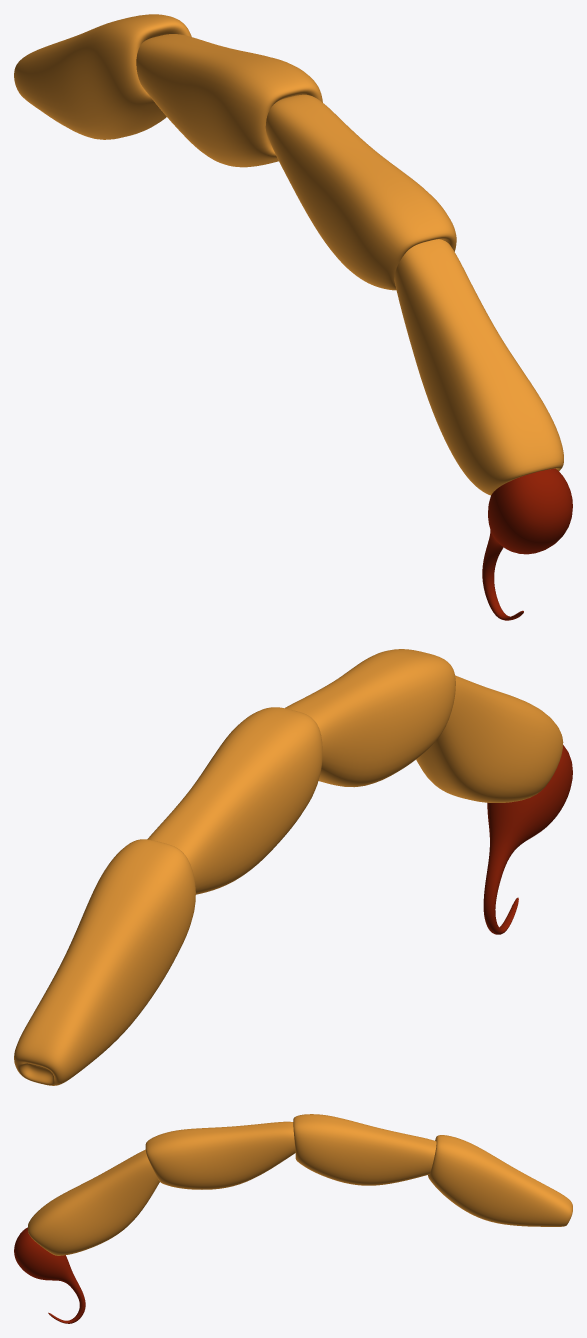
The model's file is Tail Scorpion.fbx.
3 renders of one model, top to bottom at view 1: azimuth 30°, elevation 25°; view 2: azimuth 150°, elevation 25°; view 3: azimuth 270°, elevation 25°, orthographic. The views are drawn at different scales.
Visible parts, largest first — view 1: Resized Tail Section.013, Resized Tail Section.012, Resized Tail Section.014, Resized Tail Section.015, Stinger1.003; view 2: Resized Tail Section.015, Resized Tail Section.014, Resized Tail Section.012, Resized Tail Section.013, Stinger1.003; view 3: Resized Tail Section.012, Resized Tail Section.015, Resized Tail Section.014, Resized Tail Section.013, Stinger1.003.
Part boxes in pixels (bbox=[...]): Resized Tail Section.013: bbox=[394, 239, 563, 495]; Resized Tail Section.012: bbox=[265, 94, 456, 290]; Resized Tail Section.014: bbox=[136, 34, 322, 167]; Resized Tail Section.015: bbox=[14, 14, 191, 139]; Stinger1.003: bbox=[482, 468, 572, 620]; Resized Tail Section.015: bbox=[14, 839, 195, 1085]; Resized Tail Section.014: bbox=[147, 707, 322, 894]; Resized Tail Section.012: bbox=[285, 649, 455, 787]; Resized Tail Section.013: bbox=[416, 675, 563, 802]; Stinger1.003: bbox=[483, 745, 572, 934]; Resized Tail Section.012: bbox=[145, 1121, 295, 1189]; Resized Tail Section.015: bbox=[428, 1135, 572, 1226]; Resized Tail Section.014: bbox=[293, 1114, 436, 1185]; Resized Tail Section.013: bbox=[28, 1149, 159, 1255]; Stinger1.003: bbox=[14, 1227, 85, 1323].
Bounding box in the file's own units: 65.76 × 299 × 739.
